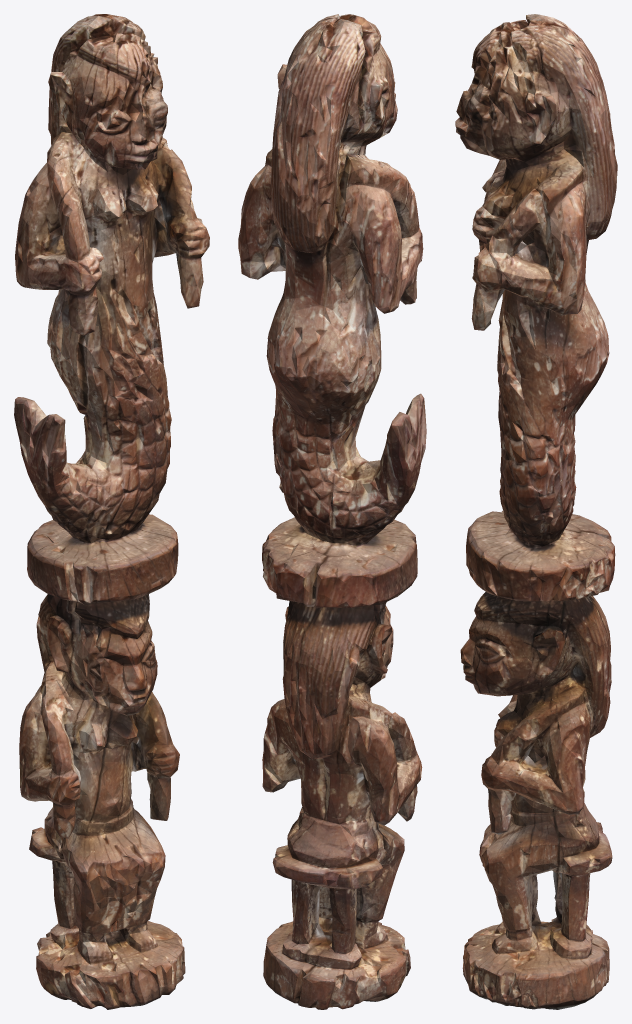
Rendered from MamieWataDouble.glb.
The picture shows the model from 3 angles, left to right: view 1: azimuth 30°, elevation 25°; view 2: azimuth 150°, elevation 25°; view 3: azimuth 270°, elevation 25°; orthographic projection.
Parts seen in each view (by area): view 1: MamieWataDouble; view 2: MamieWataDouble; view 3: MamieWataDouble.
Part boxes in pixels (box(x1,y1,x2,y2)): MamieWataDouble: box(14, 14, 209, 1009); MamieWataDouble: box(238, 14, 426, 1009); MamieWataDouble: box(455, 14, 617, 1009).
Size of the model in its own units: 0.0982 by 0.57 by 0.0873.
Materials: 1 (1 with a texture image).
